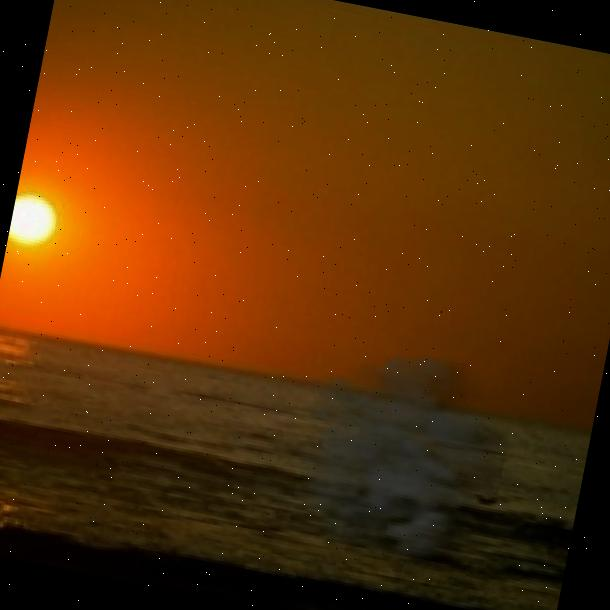smoke: (257, 331, 521, 590)
